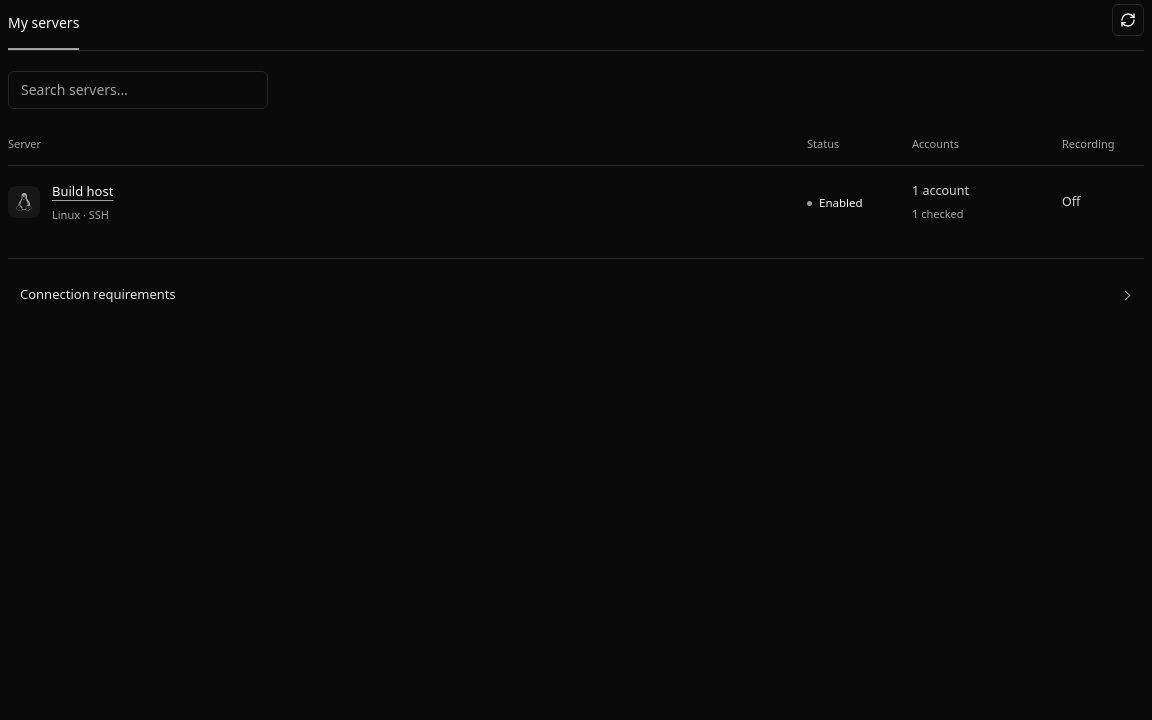
Scenario: member catalog does not request privileged topology and MFA refusal cannot open a terminal
The image size is (1152, 720).
Click the button "Build host": (83, 191) [52,181,113,201]
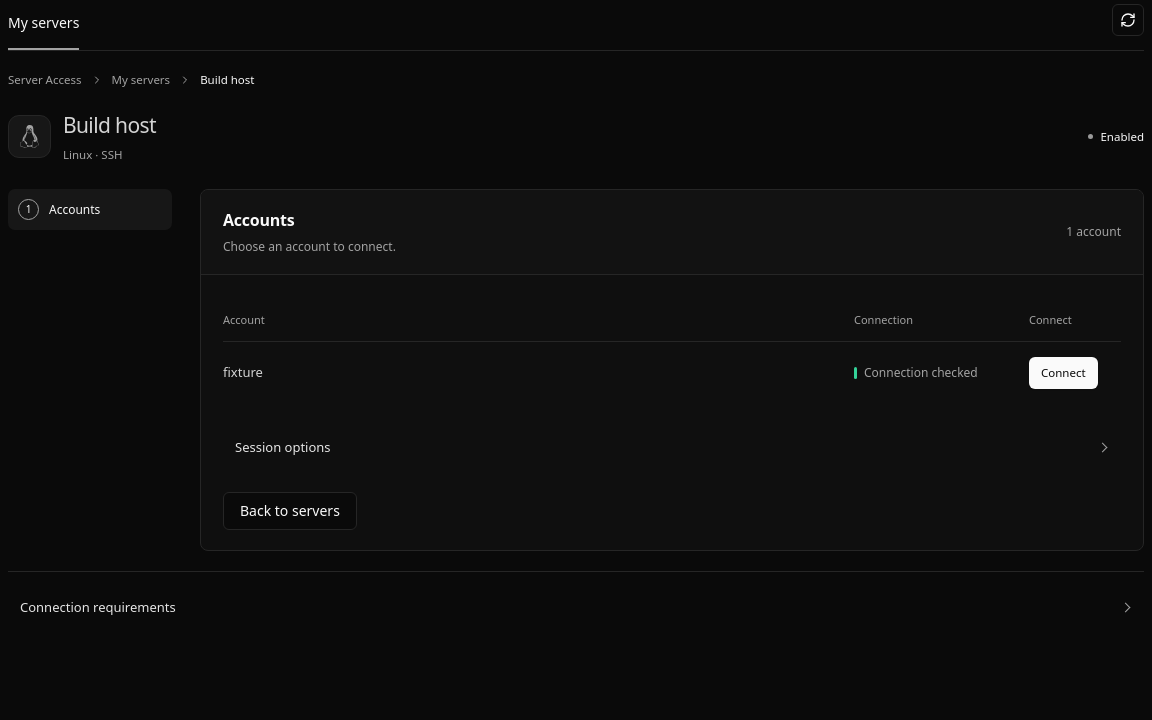
Result: the button with aria-label "Connect as fixture" is shown
Click the button with aria-label "Connect as fixture": (1063, 373) [1029,357,1098,389]
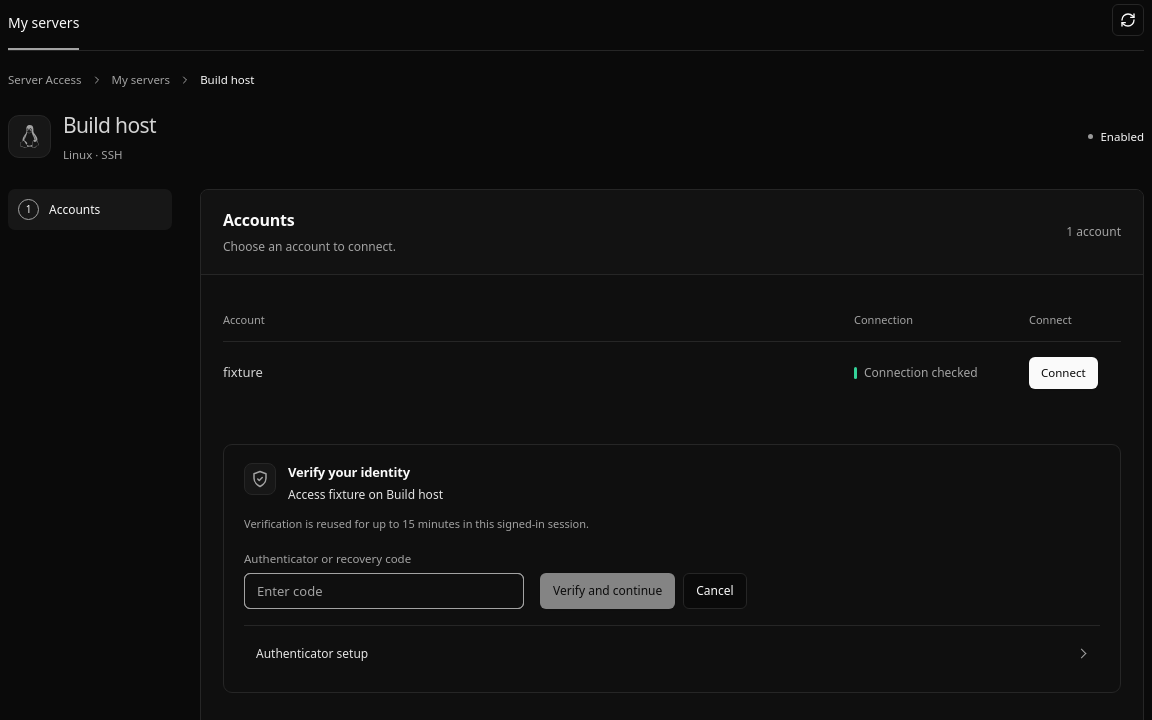
Result: the heading "Verify your identity" is shown at [288,463,410,481]
